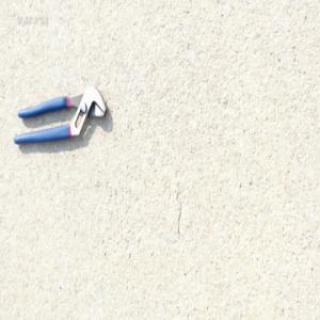Pliertrack_idkeyframe: (12, 81, 109, 144)
